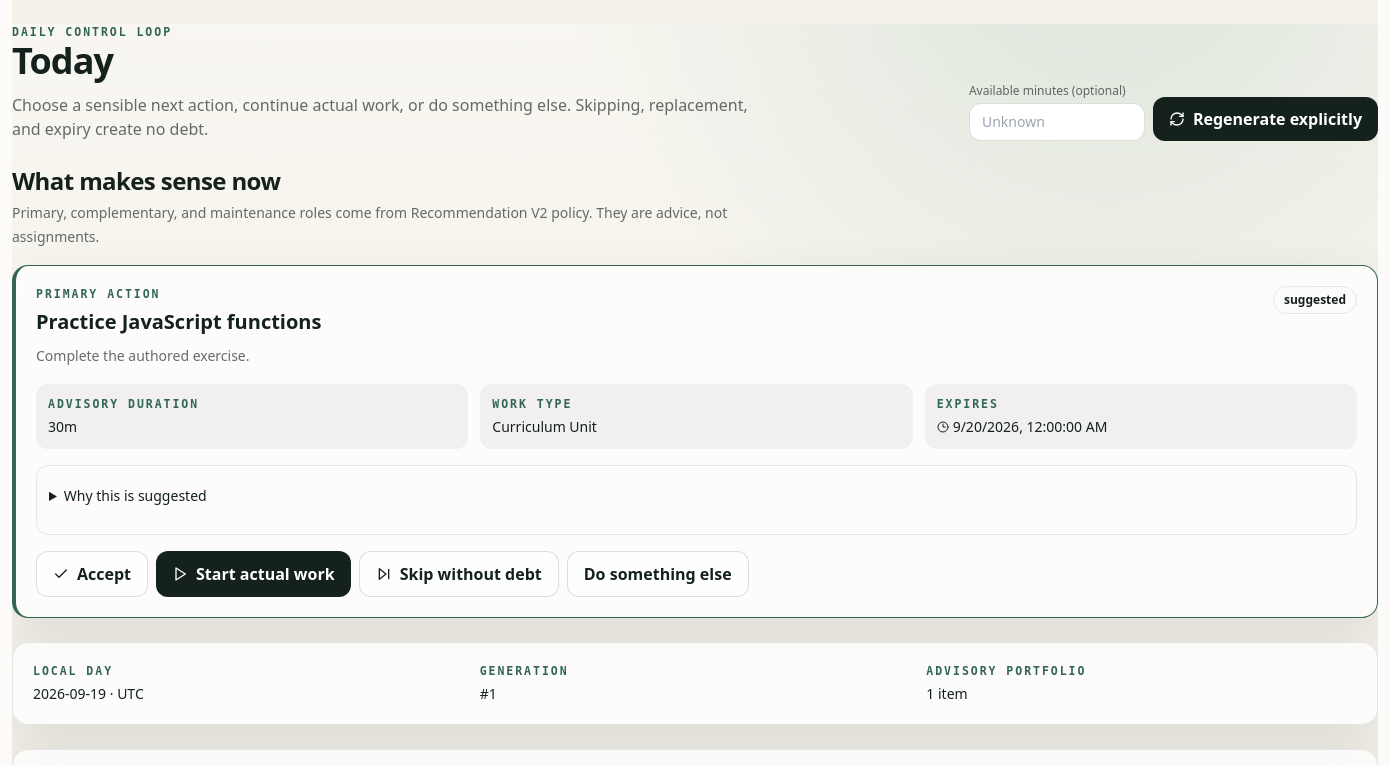
Scenario: Today daily control loop › keeps an authoritative Today status transition when its follow-up refresh fails
Click the button "Skip without debt". click: x=459, y=574
box: [359,551,559,597]
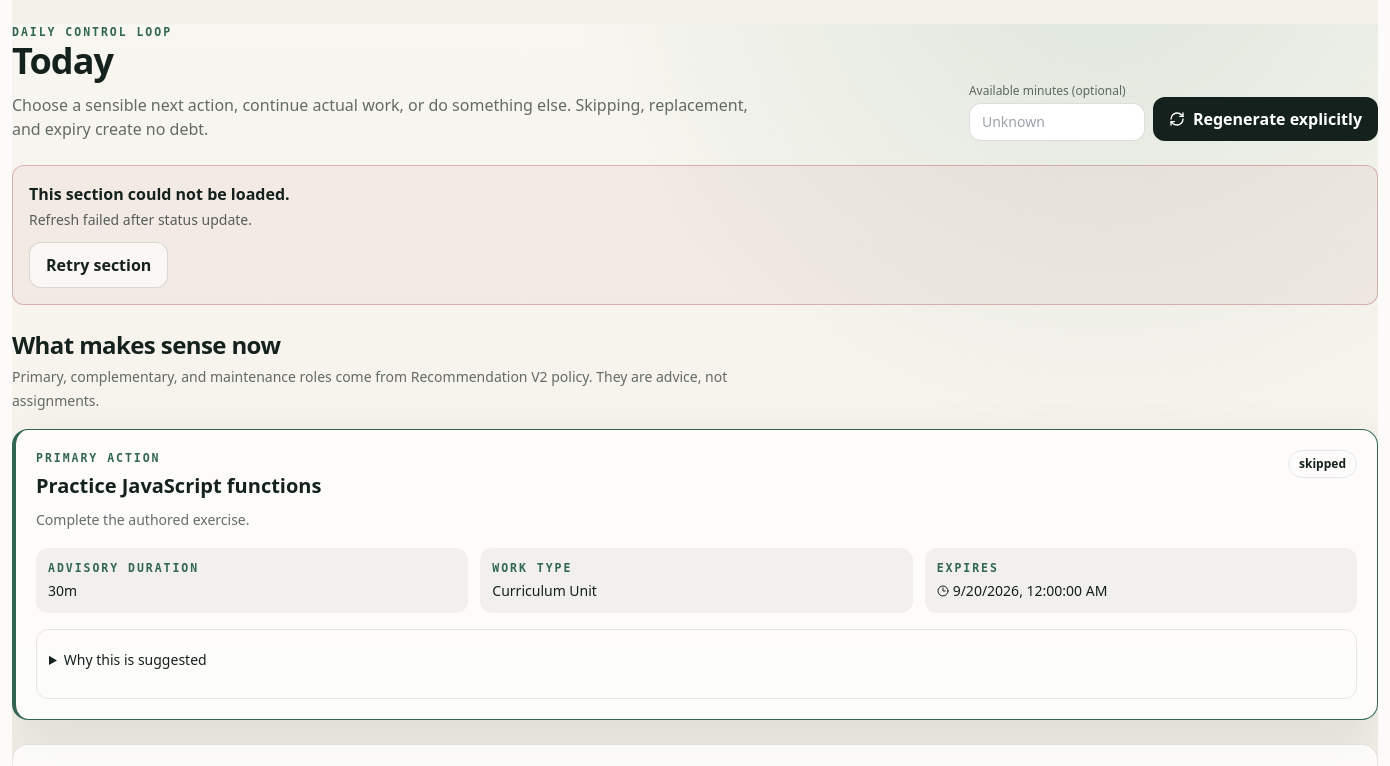
Check: the text "Refresh failed after status update." is shown, box [29,210,252,229]
Check: the text "skipped" is shown, box [1288,450,1357,478]
Check: the button "Skip without debt" is gone
